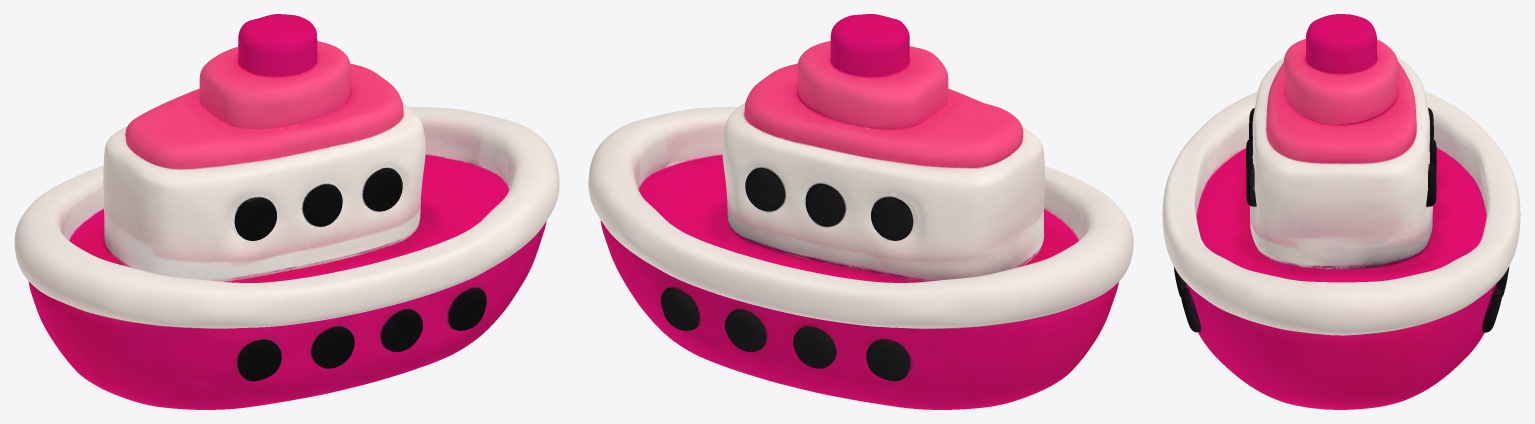
The model's file is boat_clay.glb.
3 renders of one model, left to right at view 1: azimuth 30°, elevation 25°; view 2: azimuth 150°, elevation 25°; view 3: azimuth 270°, elevation 25°, orthographic. The views are drawn at different scales.
Size of the model in its own units: 1.9 by 1.16 by 1.24.
1 material, 1 textured.
